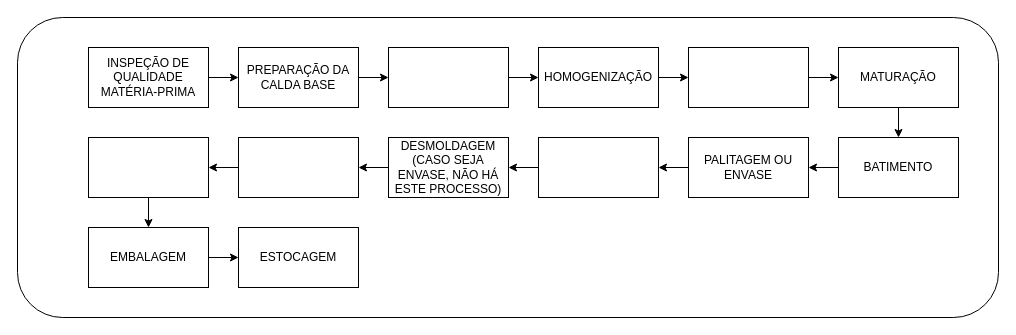
This 1016x335 diagram has some shape labels left out. The shapes that lost their labels are listed below. From the top down, each one's centre as x and y in pixels, then its label:
At (448,77): "PASTEURIZAÇÃO".
At (748,77): "RESFRIAMENTO".
At (148,167): "TESTE DE QUALIDADE".
At (298,167): "CONGELAMENTO FINAL".
At (598,167): "CONGELAMENTO".
